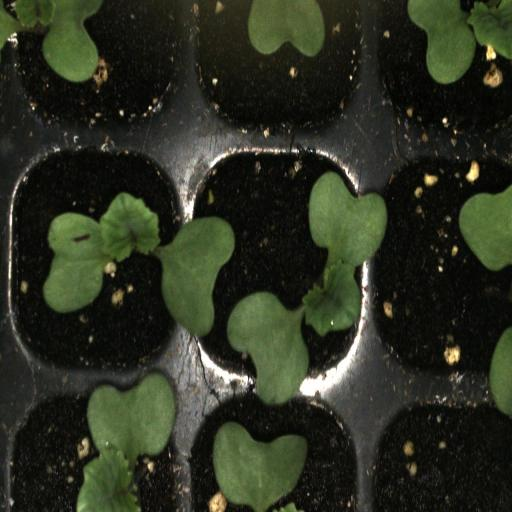seedling: (3, 139, 190, 386), (188, 140, 368, 382), (3, 380, 188, 512)
